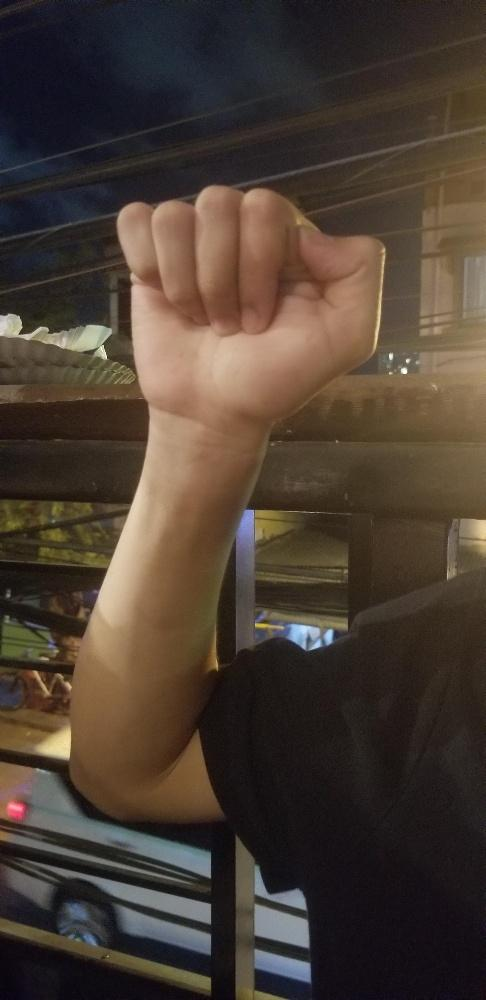a: (114, 181, 386, 430)
